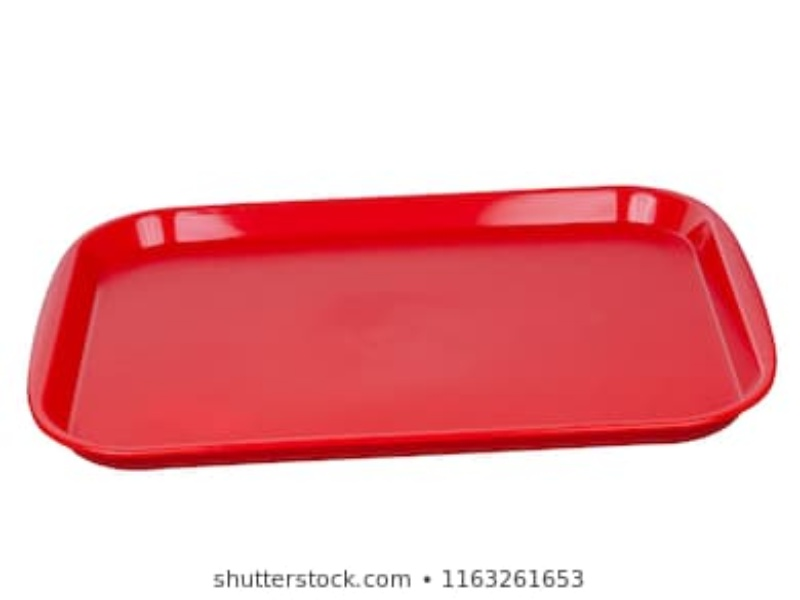plastic-tray: (21, 190, 781, 472)
